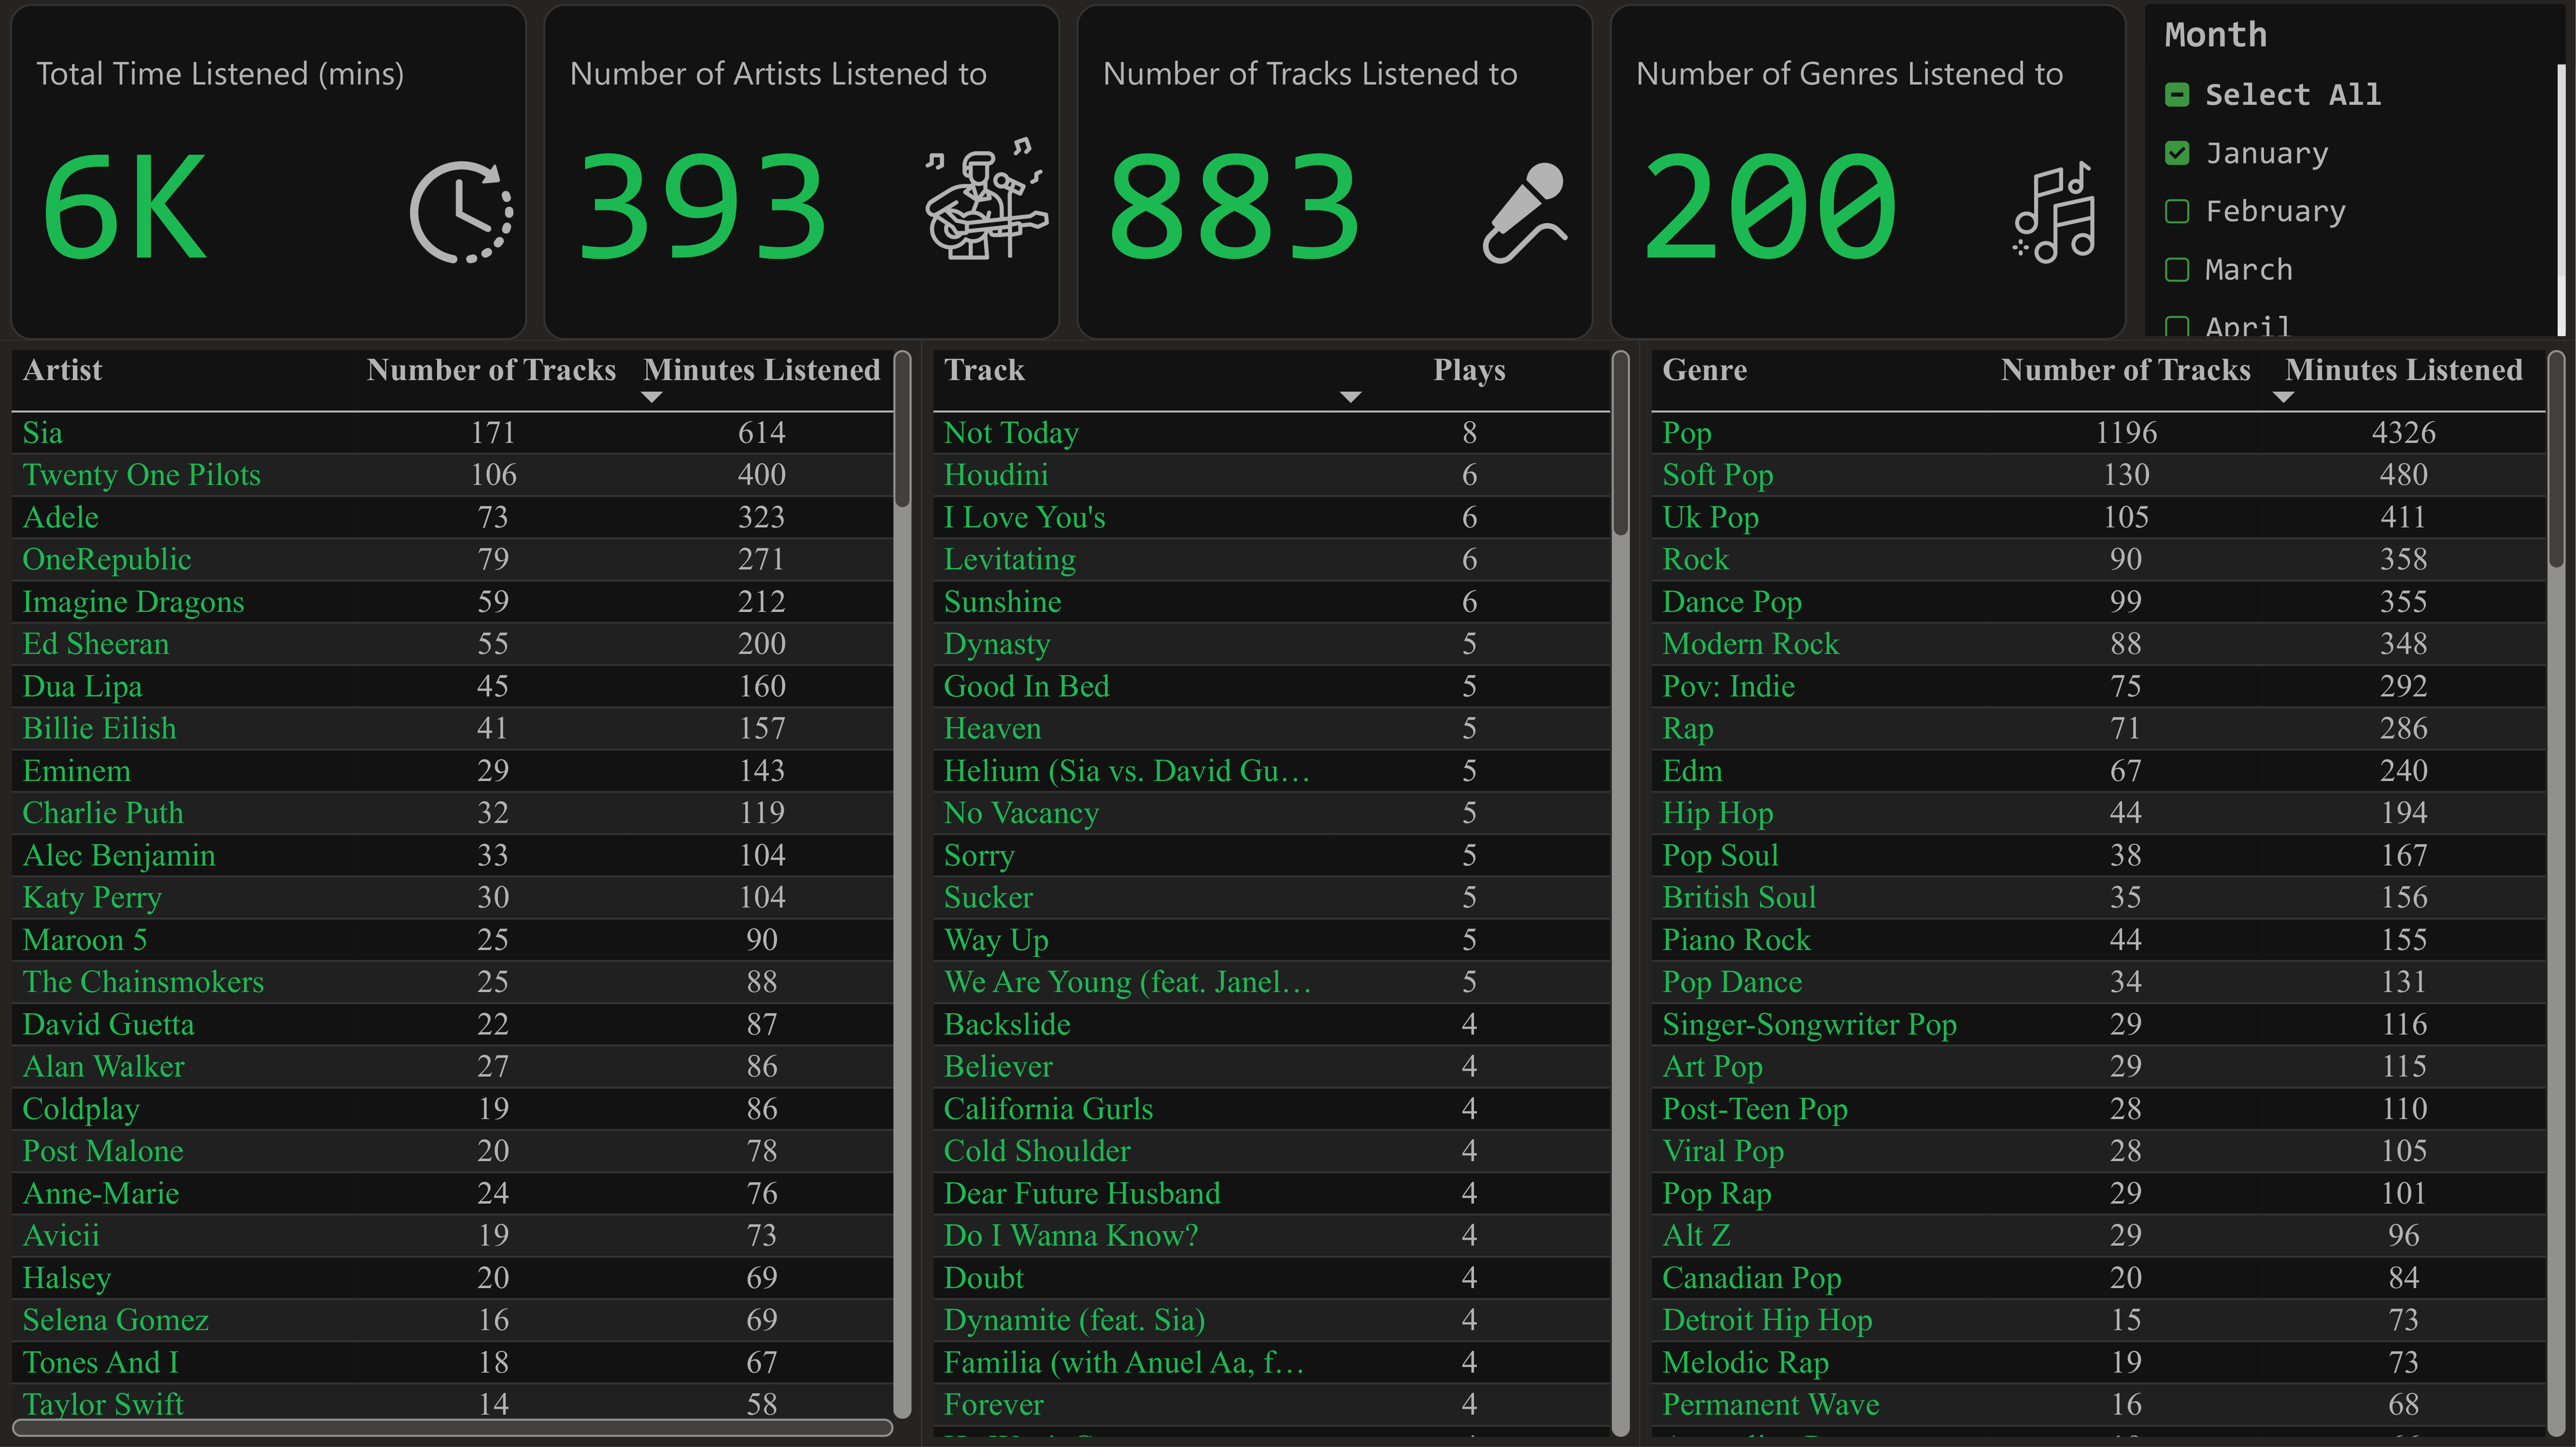

What the dashboard file says about the page in this screenshot:
{"tool":"powerbi","page":{"name":"Overview","canvas":[1280,720],"ordinal":0},"visuals":[{"type":"cardVisual","fields":{"Data":["Sum(Listening Data.time_listened)","Count(Artists.Artist)","Count(Listening Data.Track)","Count(Genres.genre)"]},"box":[0,0,1061.6,168.6],"z":0},{"type":"tableEx","fields":{"Values":["Artists.Artist","CountNonNull(Artists.Artist)","Sum(Artists.time_listened)"]},"box":[0,168.9,457.7,550.5],"z":1000},{"type":"tableEx","fields":{"Values":["Listening Data.Track","Sum(Listening Data.times_listened)"]},"box":[457.7,168.9,357.1,550.5],"z":2000},{"type":"tableEx","fields":{"Values":["Genres.genre","CountNonNull(Genres.genre)","Sum(Genres.time_listened)"]},"box":[814.8,168.9,465.4,550.5],"z":3000},{"type":"image","box":[452.6,59.8,75.8,75.8],"z":4000},{"type":"image","box":[990,75.2,61.2,61.2],"z":5000},{"type":"image","box":[198.8,75.2,61.2,61.2],"z":6000},{"type":"image","box":[727.5,75.2,60,61.2],"z":7000},{"type":"PowerSlicerA96234ADB8D143D1837FEC426BB34781","fields":{"categories":["DateTable.MonthName"]},"box":[1061.4,0,218.3,168.9],"z":8000}]}

Visuals, with their boxes in screenshot pixels (x1, y1, x2, y2), scaled from the page's 1280x720 canvas onto the 2576x1447 screenshot:
cardVisual - Sum(Listening Data.time_listened) x Count(Artists.Artist): 0/0/2137/339
tableEx - Artists.Artist x CountNonNull(Artists.Artist): 0/340/921/1446
tableEx - Listening Data.Track x Sum(Listening Data.times_listened): 921/340/1640/1446
tableEx - Genres.genre x CountNonNull(Genres.genre): 1640/340/2576/1446
image: 911/120/1063/272
image: 1993/151/2116/274
image: 400/151/523/274
image: 1464/151/1585/274
PowerSlicerA96234ADB8D143D1837FEC426BB34781 - DateTable.MonthName: 2136/0/2576/340
